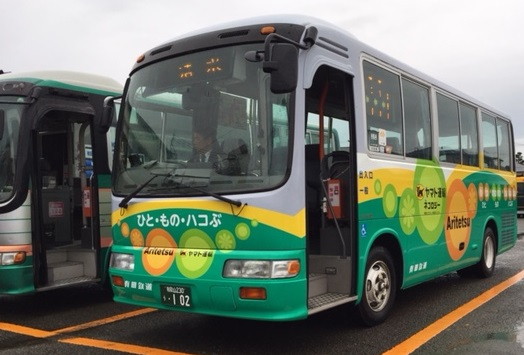destination: (155, 50, 229, 89)
